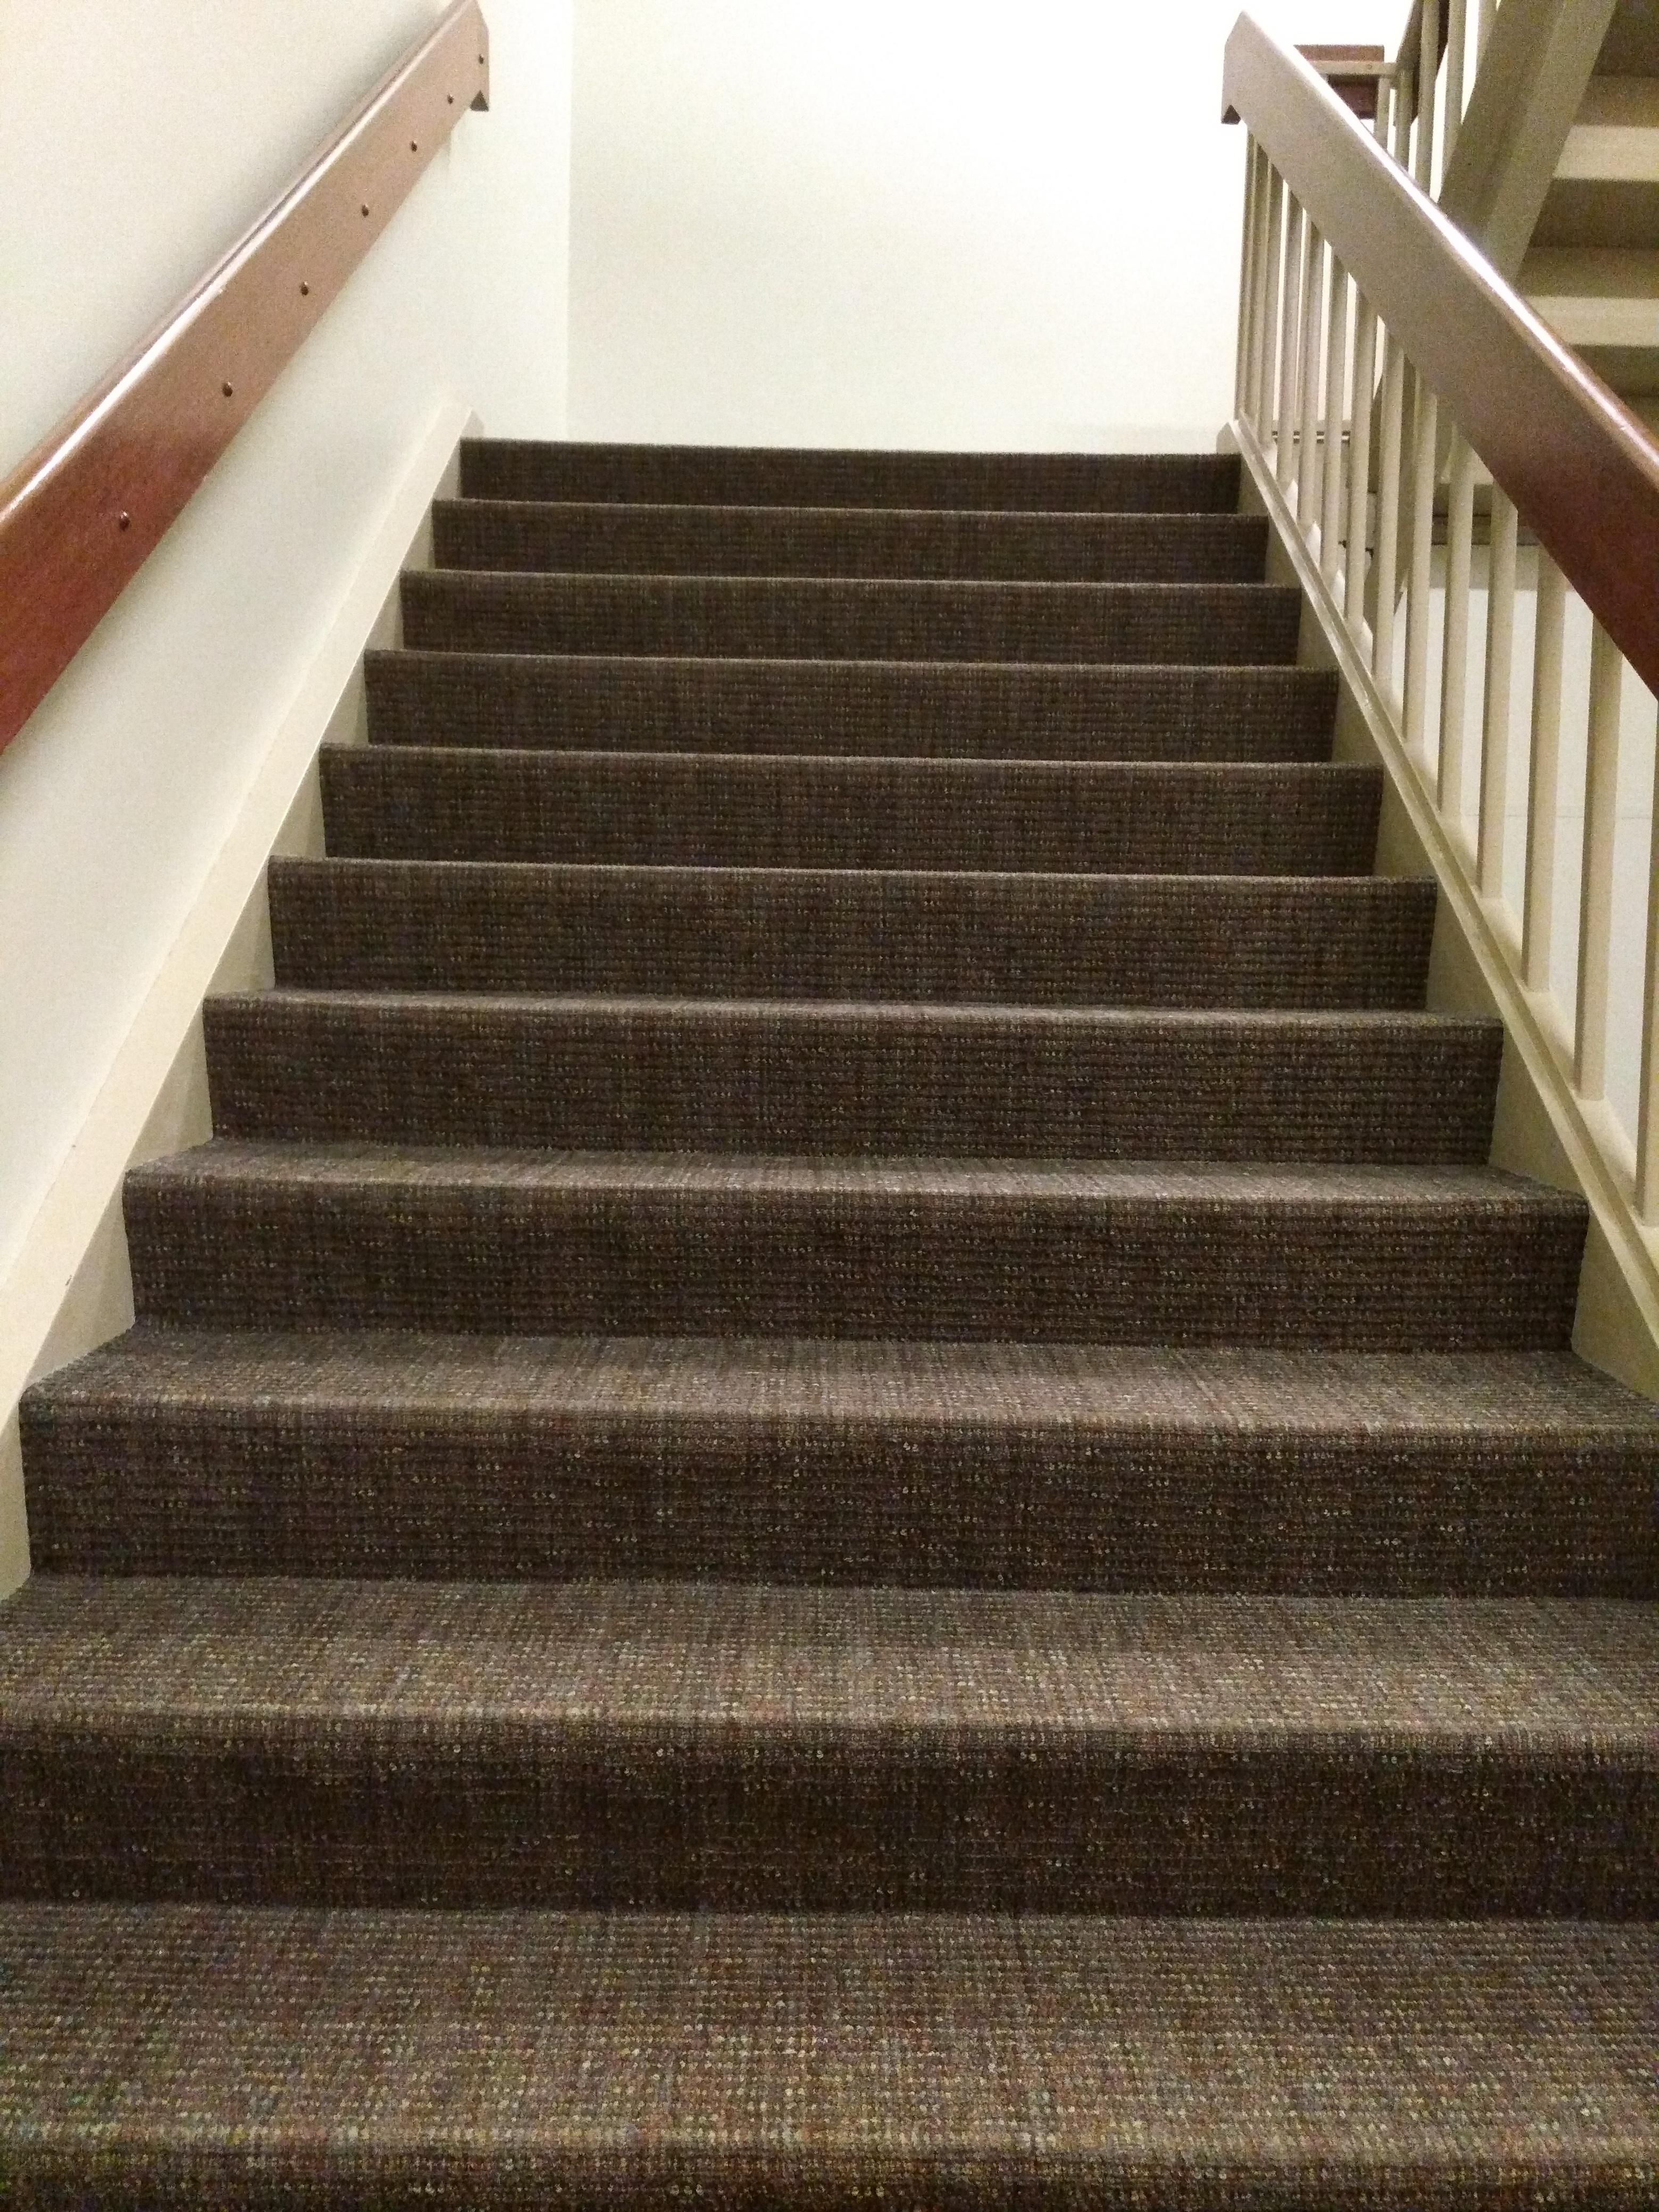stairs_up: (17, 399, 1659, 1963)
